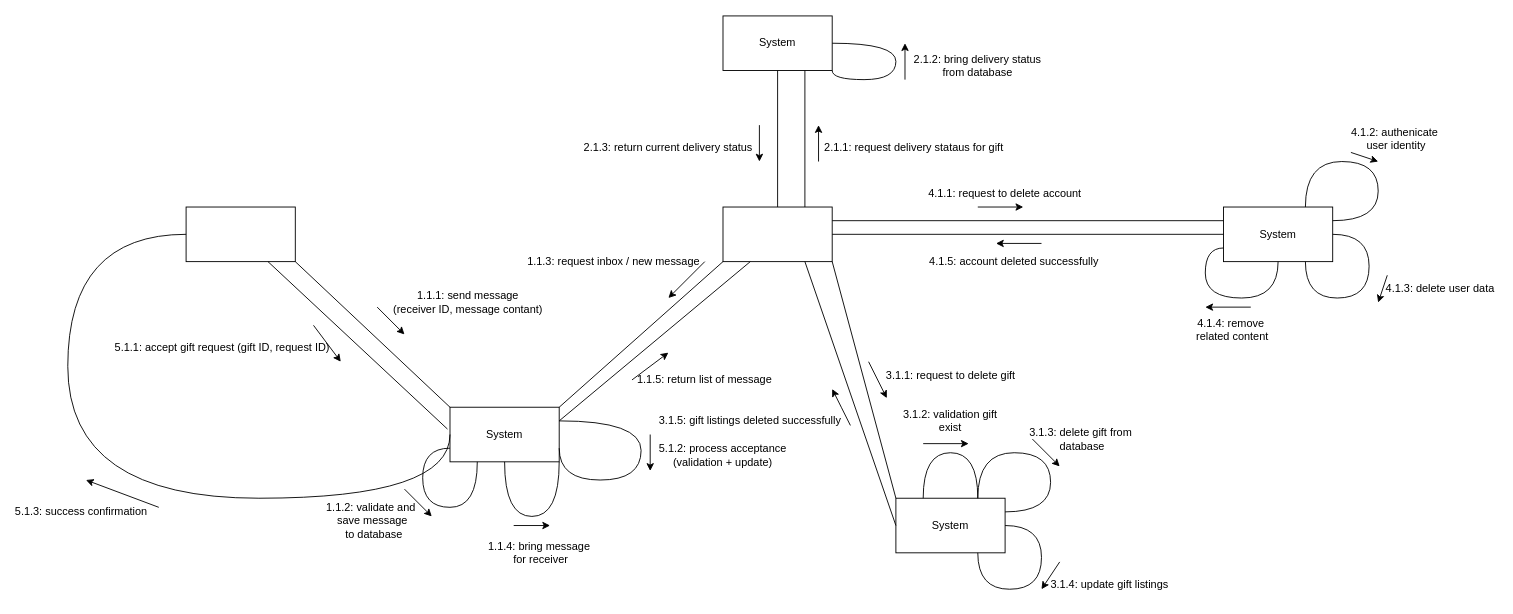
This 1513x614 diagram has some shape labels left out. The centre of each missing label's shape, as x and y in pixels:
"User(Receiver)" belongs at (x=777, y=234).
"User(Sender)" belongs at (x=240, y=234).
